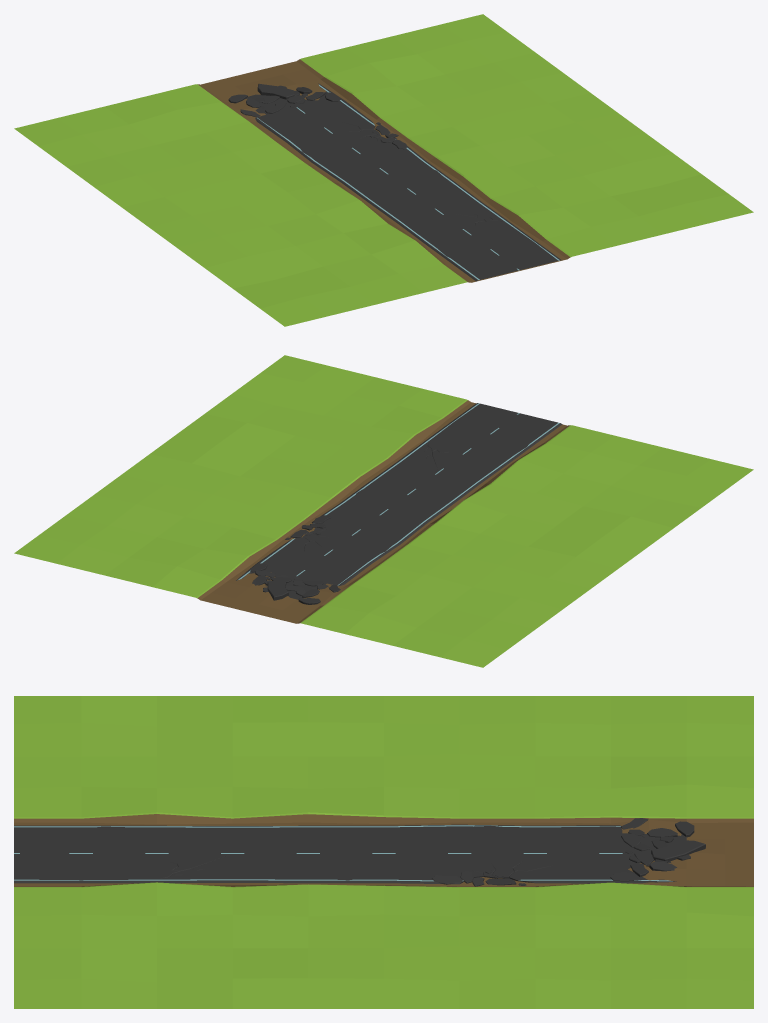
The model's file is model_road_grass_straight_03.fbx.
3 renders of one model, top to bottom at view 1: azimuth 30°, elevation 25°; view 2: azimuth 150°, elevation 25°; view 3: azimuth 270°, elevation 25°, orthographic. The views are drawn at different scales.
Parts seen in each view (by area): view 1: model_road_grass_straight_03; view 2: model_road_grass_straight_03; view 3: model_road_grass_straight_03.
Part boxes in pixels (x1,y1,x2,y2): model_road_grass_straight_03: (14,14,753,326); model_road_grass_straight_03: (14,355,753,667); model_road_grass_straight_03: (14,696,753,1008).
Bounding box in the file's own units: 6000 × 72.76 × 6000.
Materials: 1 (1 with a texture image).
